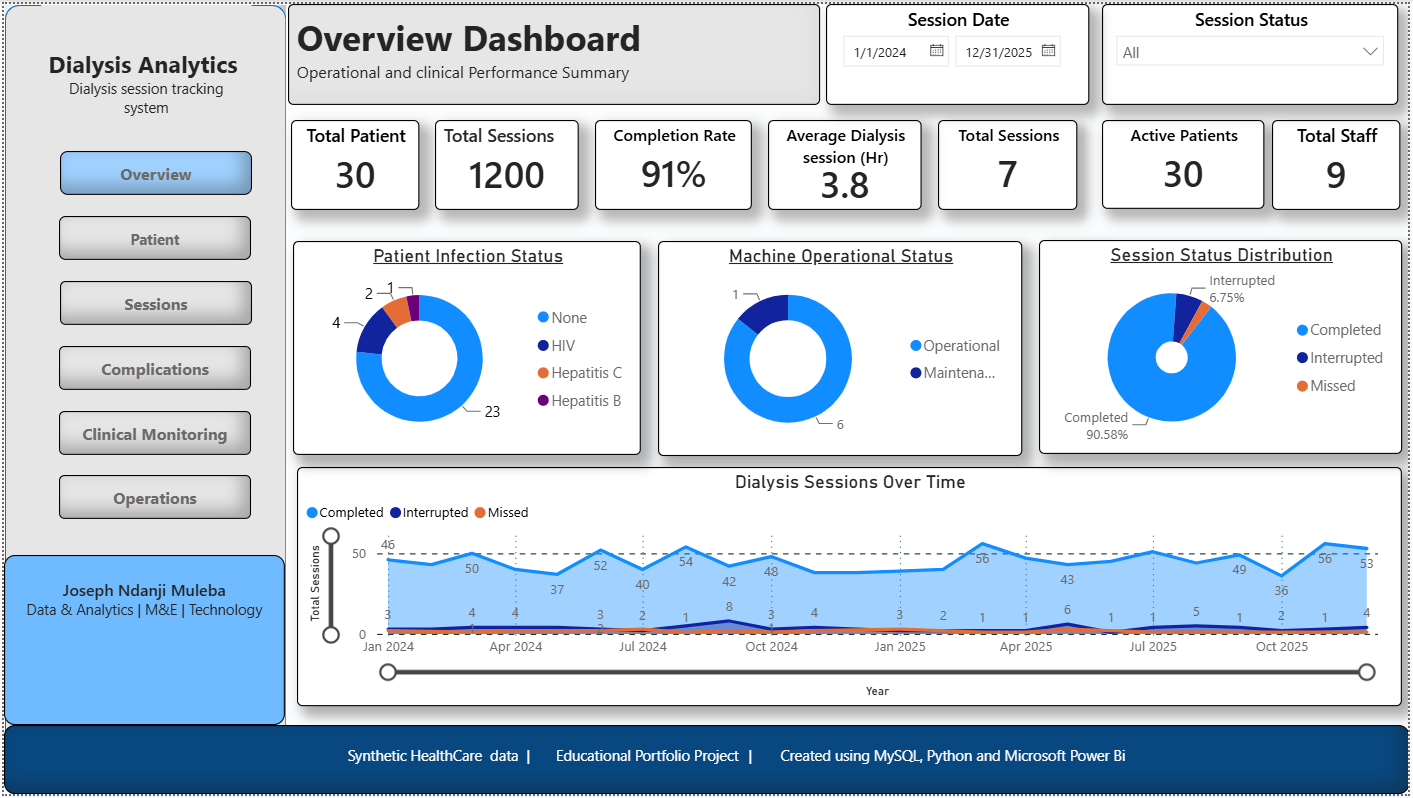

Layout of this report page (visuals, bound fields, positions):
{"tool":"powerbi","page":{"name":"Dashboard","canvas":[1280,720],"ordinal":0},"visuals":[{"type":"textbox","title":"Heading (overview)","box":[259.2,0,485.3,92.3],"z":0,"group":"g3"},{"type":"slicer","title":"Session Status","fields":{"Values":["dialysis_tracker sessions.session_status"]},"box":[1004,0,273.2,92],"z":0,"group":"g7"},{"type":"shape","title":"Menu Background","box":[1.1,1,256.3,695.3],"z":0,"group":"g6"},{"type":"card","title":"Total Patient","fields":{"Values":["Dashboard Measures.Total Patients"]},"box":[262,106.2,116.7,81.8],"z":0,"group":"g2"},{"type":"group","id":"g1","title":"Charts","box":[263.8,215.1,1011,424.7],"z":0,"group":"g5"},{"type":"donutChart","title":"Machine Operational Status","fields":{"Category":["dialysis_tracker dialysis_machines.status"],"Y":["CountNonNull(dialysis_tracker dialysis_machines.machine_id)"]},"box":[596.4,215.7,331.9,195.6],"z":0,"group":"g1"},{"type":"actionButton","title":"Operation Button","box":[50,430.2,175,40],"z":0,"group":"g4"},{"type":"actionButton","title":"Complications Button","box":[50,312,175,40],"z":500,"group":"g4"},{"type":"slicer","title":"Session Date","fields":{"Values":["dialysis_tracker sessions.session_date"]},"box":[749.2,0,242.4,92],"z":1000,"group":"g7"},{"type":"group","id":"g2","title":"KPIs","box":[262,106,1010.9,82.1],"z":1000,"group":"g5"},{"type":"card","title":"Total Sessions","fields":{"Values":["Dashboard Measures.Total Sessions"]},"box":[393.5,106.2,130.6,81.8],"z":1000,"group":"g2"},{"type":"actionButton","title":"Clinical Button","box":[50,371.1,175,40],"z":1000,"group":"g4"},{"type":"areaChart","title":"Dialysis Sessions Over Time","fields":{"Category":["dialysis_tracker sessions.session_date.Variation.Date Hierarchy.Year","dialysis_tracker sessions.session_date.Variation.Date Hierarchy.Month","dialysis_tracker sessions.session_date.Variation.Date Hierarchy.Day"],"Series":["dialysis_tracker sessions.session_status"],"Y":["Dashboard Measures.Total Sessions"]},"box":[267.8,421.7,1007,218.1],"z":1000,"group":"g1"},{"type":"textbox","title":"footer","box":[0,657,1280.6,63.4],"z":1000,"group":"g6"},{"type":"group","id":"g3","title":"Header","box":[259.2,0,485.3,92.3],"z":2000,"group":"g5"},{"type":"card","title":"Active Patients","fields":{"Values":["Dashboard Measures.Active Patients"]},"box":[1001.1,106,147.7,81],"z":2000,"group":"g2"},{"type":"donutChart","title":"Session Status Distribution","fields":{"Category":["dialysis_tracker sessions.session_status"],"Y":["Dashboard Measures.Total Sessions"]},"box":[943.4,215.1,331,195],"z":2000,"group":"g1"},{"type":"actionButton","title":"Sessions Button","box":[50.8,252.7,175,40.3],"z":2000,"group":"g4"},{"type":"textbox","title":"Joseph intro","box":[0,502.1,255.8,155.2],"z":2000,"group":"g6"},{"type":"card","title":"Total Sessions","fields":{"Values":["Dashboard Measures.Total Machines"]},"box":[851.5,106.2,127.1,81.8],"z":3000,"group":"g2"},{"type":"group","id":"g4","title":"Buttons","box":[50,134.5,175.8,335.7],"z":3000,"group":"g6"},{"type":"actionButton","title":"Patient Button","box":[50,193.6,175,40],"z":3000,"group":"g4"},{"type":"donutChart","title":"Patient Infection Status","fields":{"Category":["dialysis_tracker patients.infection_status"],"Y":["Dashboard Measures.Total Patients"]},"box":[263.8,215.8,317.5,195],"z":3000,"group":"g1"},{"type":"textbox","title":"Menu intro","box":[33.3,1,192,129.9],"z":4000,"group":"g6"},{"type":"card","title":"Total Staff","fields":{"Values":["Dashboard Measures.Total Staff"]},"box":[1156.2,106.2,116.7,81.8],"z":4000,"group":"g2"},{"type":"actionButton","title":"Overview Button","box":[50.7,134.5,175,40],"z":4000,"group":"g4"},{"type":"card","title":"Average Dialysis session (Hr)","fields":{"Values":["Dashboard Measures.Average Dialysis Duration"]},"box":[696.9,106.2,139.8,81.9],"z":5000,"group":"g2"},{"type":"group","id":"g5","title":"Overview Page","box":[259.2,0,1015.6,639.8],"z":6000},{"type":"card","title":"Completion Rate","fields":{"Values":["Dashboard Measures.Session Completion Rate"]},"box":[538.8,106.2,143.3,81.8],"z":6000,"group":"g2"},{"type":"group","id":"g6","title":"Menu","box":[0,1,1280.6,719.4],"z":11501},{"type":"group","id":"g7","title":"General slicers","box":[749.2,0,528,92],"z":12001}]}

Visuals, with their boxes in screenshot pixels (x1, y1, x2, y2), scaled from the page's 1280x720 canvas onto the 1413x798 screenshot:
"Heading (overview)" textbox: select_region(286, 0, 822, 102)
"Session Status" slicer: select_region(1108, 0, 1410, 102)
"Menu Background" shape: select_region(1, 1, 284, 772)
"Total Patient" card: select_region(289, 118, 418, 208)
"Charts" group: select_region(291, 238, 1407, 709)
"Machine Operational Status" donutChart: select_region(658, 239, 1025, 456)
"Operation Button" actionButton: select_region(55, 477, 248, 521)
"Complications Button" actionButton: select_region(55, 346, 248, 390)
"Session Date" slicer: select_region(827, 0, 1095, 102)
"KPIs" group: select_region(289, 117, 1405, 208)
"Total Sessions" card: select_region(434, 118, 579, 208)
"Clinical Button" actionButton: select_region(55, 411, 248, 456)
"Dialysis Sessions Over Time" areaChart: select_region(296, 467, 1407, 709)
"footer" textbox: select_region(0, 728, 1412, 797)
"Header" group: select_region(286, 0, 822, 102)
"Active Patients" card: select_region(1105, 117, 1268, 207)
"Session Status Distribution" donutChart: select_region(1041, 238, 1407, 455)
"Sessions Button" actionButton: select_region(56, 280, 249, 325)
"Joseph intro" textbox: select_region(0, 556, 282, 729)
"Total Sessions" card: select_region(940, 118, 1080, 208)
"Buttons" group: select_region(55, 149, 249, 521)
"Patient Button" actionButton: select_region(55, 215, 248, 259)
"Patient Infection Status" donutChart: select_region(291, 239, 642, 455)
"Menu intro" textbox: select_region(37, 1, 249, 145)
"Total Staff" card: select_region(1276, 118, 1405, 208)
"Overview Button" actionButton: select_region(56, 149, 249, 193)
"Average Dialysis session (Hr)" card: select_region(769, 118, 924, 208)
"Overview Page" group: select_region(286, 0, 1407, 709)
"Completion Rate" card: select_region(595, 118, 753, 208)
"Menu" group: select_region(0, 1, 1412, 797)
"General slicers" group: select_region(827, 0, 1410, 102)
